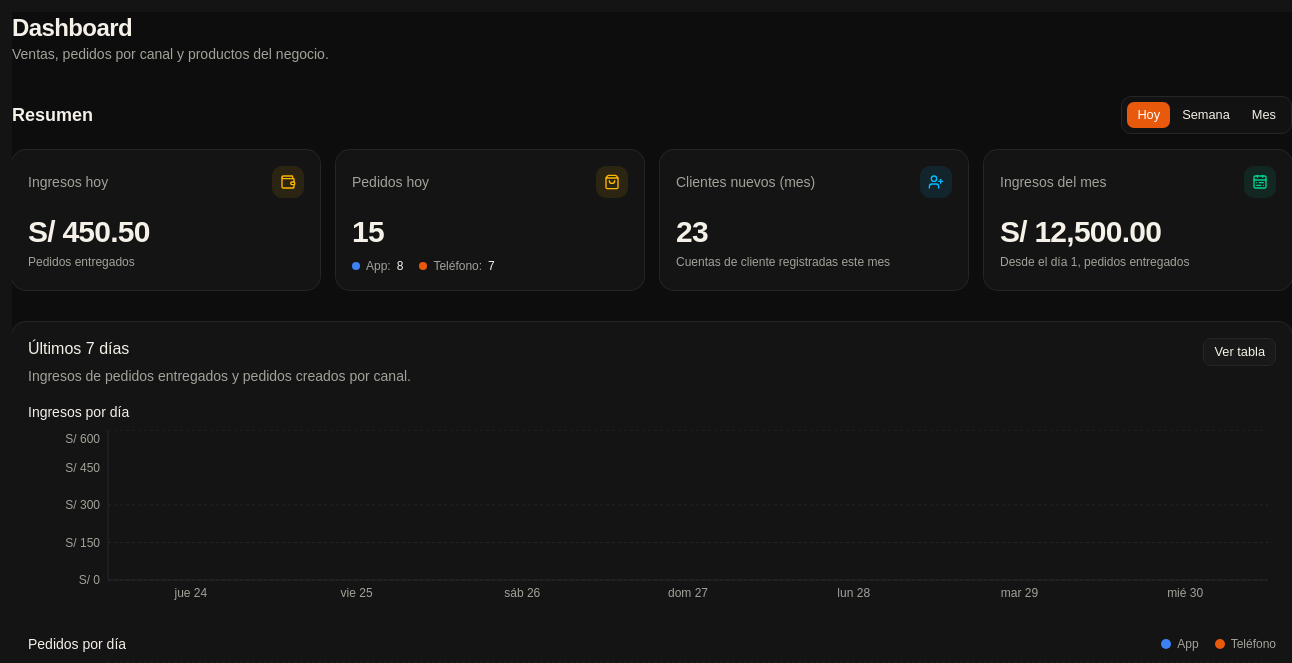
DashboardPage — métricas › el filtro de período cambia los KPIs sin volver a pedir datos
This screenshot has width=1292, height=663.
Expected: the text "Ingresos hoy" is shown, [28, 172, 108, 192]
Click the button "Semana" at (1206, 115), box [1171, 101, 1241, 129]
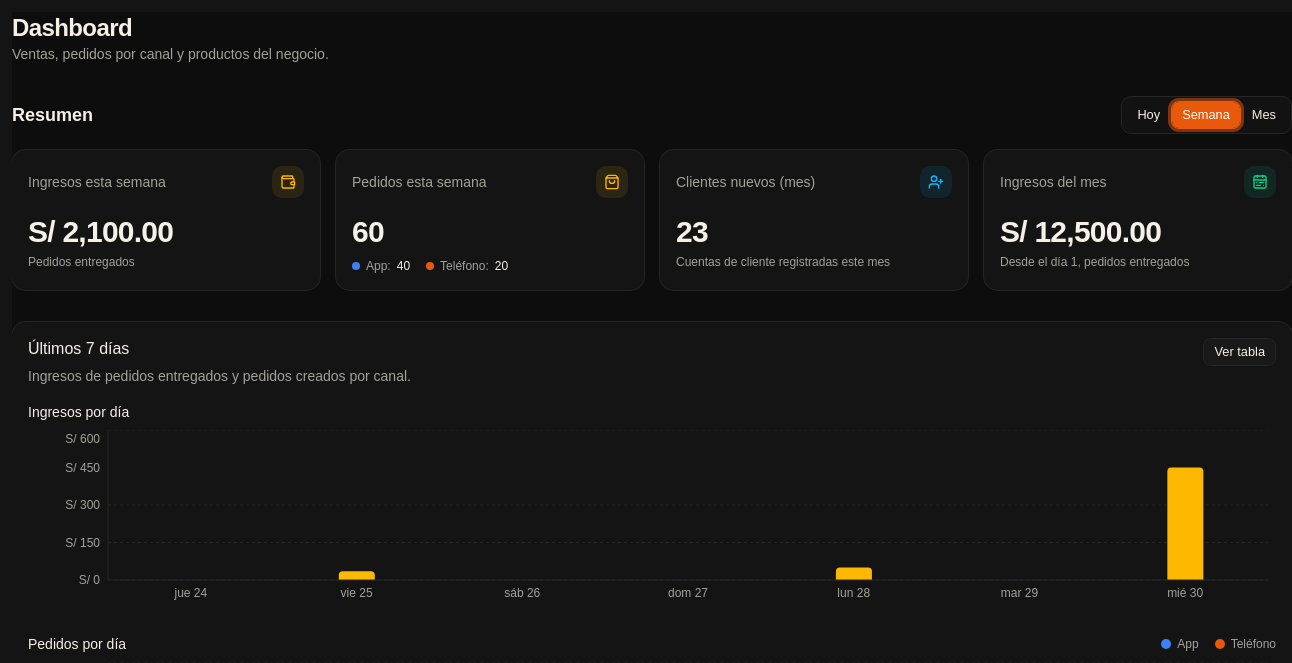
Expected: the text "S/ 2,100.00" is shown, [28, 215, 173, 248]
Expected: the text "60" is shown, [352, 215, 384, 248]
